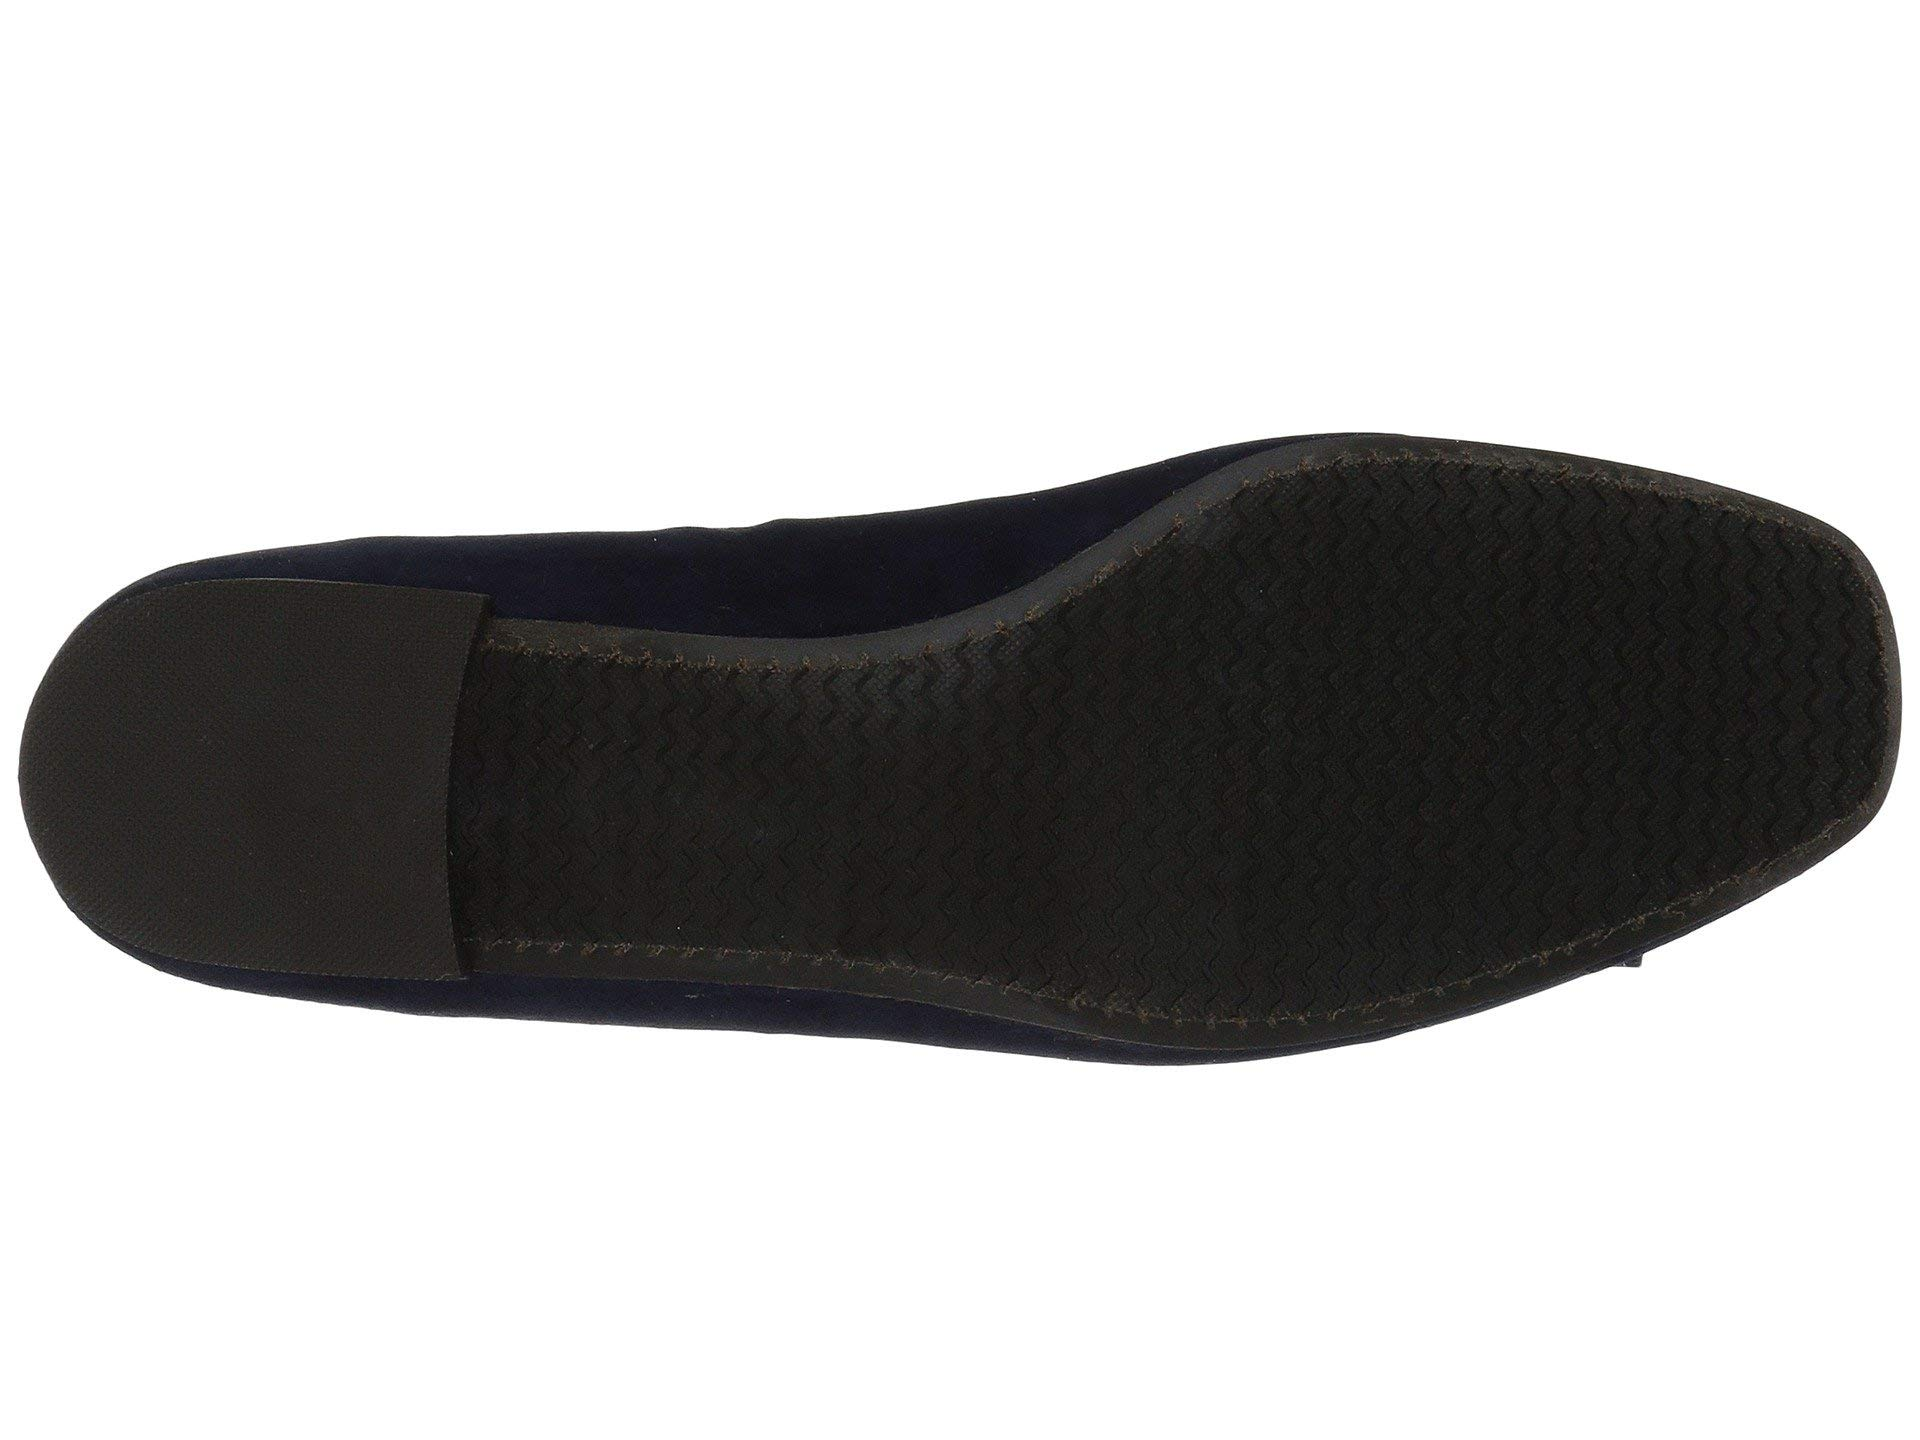chevron: (537, 690, 1185, 964), (1274, 511, 1618, 914), (1655, 538, 1834, 827)
